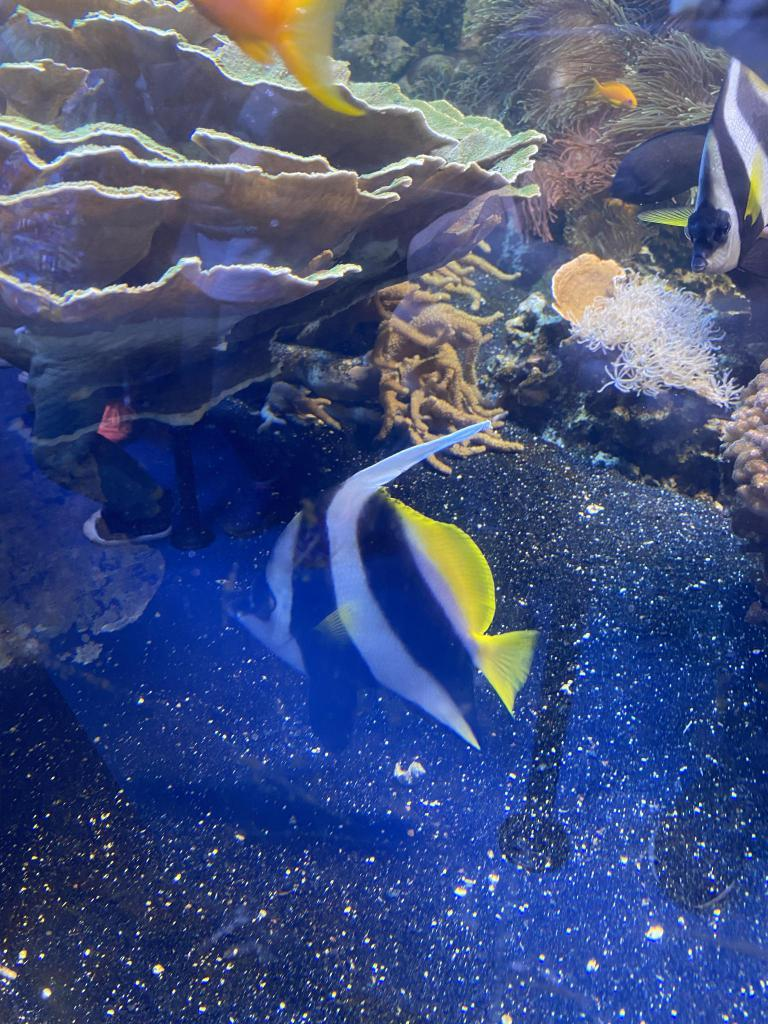fish: (228, 479, 538, 753), (635, 54, 767, 276)
